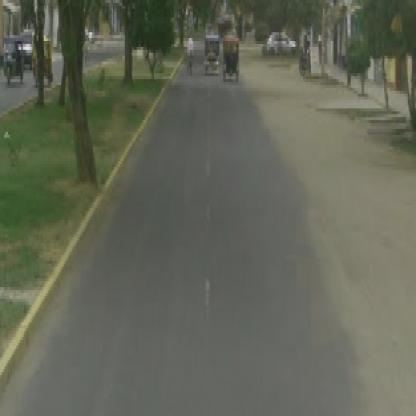Moto: (188, 30, 195, 80)
Pista: (4, 33, 370, 411)
Vehiculo: (223, 33, 240, 86), (204, 33, 219, 77)
